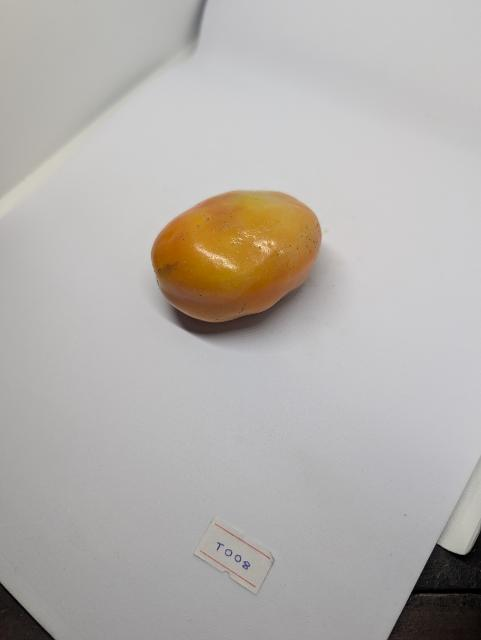turning: (140, 177, 337, 331)
